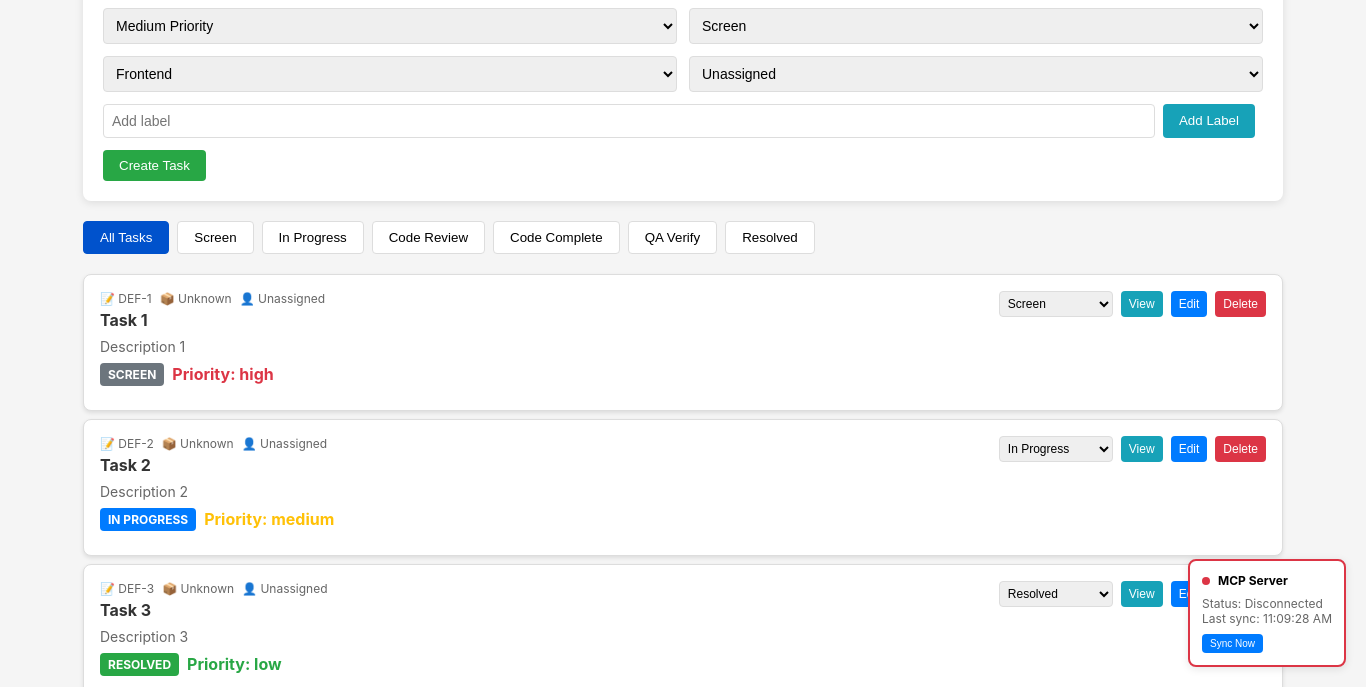
it: Dashboard Component › cancels task editing
(page scrolled)
Click the button "Edit" in the row of "Task 1" at (1189, 304), box left=1171, top=291, right=1207, bottom=317
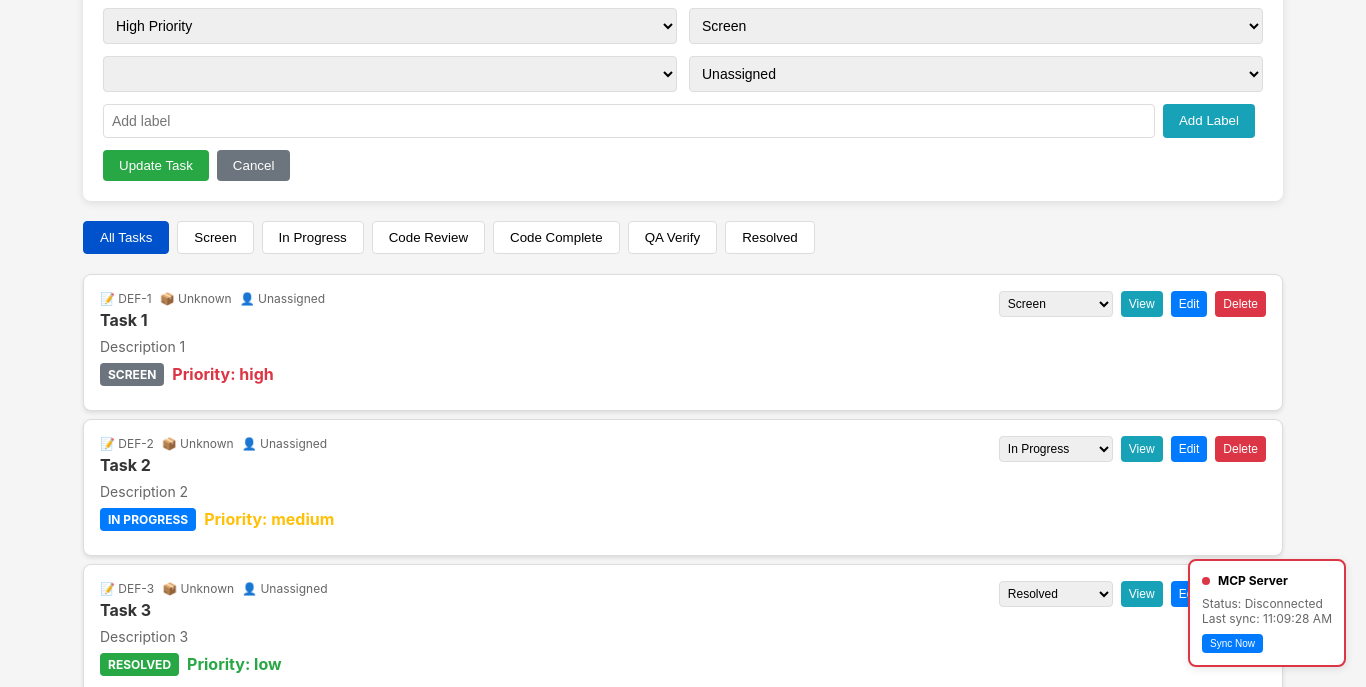
Click the button "Cancel" at (254, 165), box left=217, top=150, right=290, bottom=181
(page scrolled)
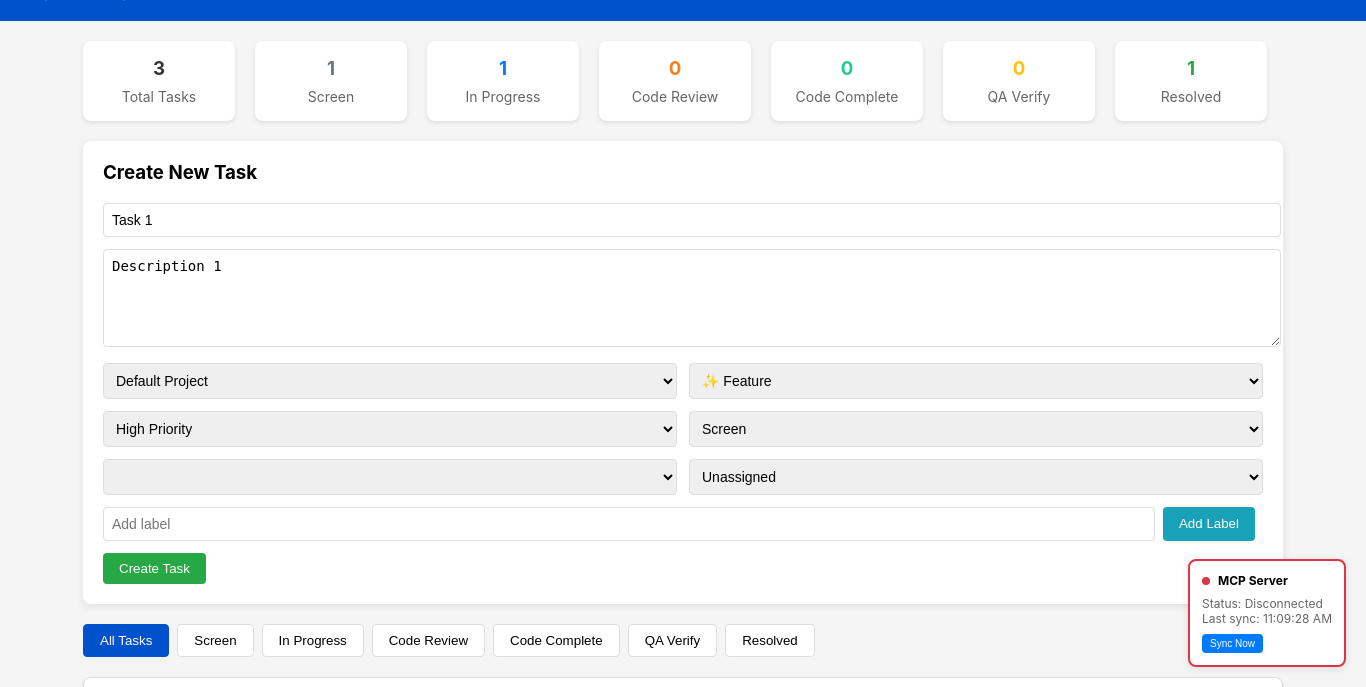
expect the heading "Create New Task" is shown: met, box left=103, top=161, right=257, bottom=184
